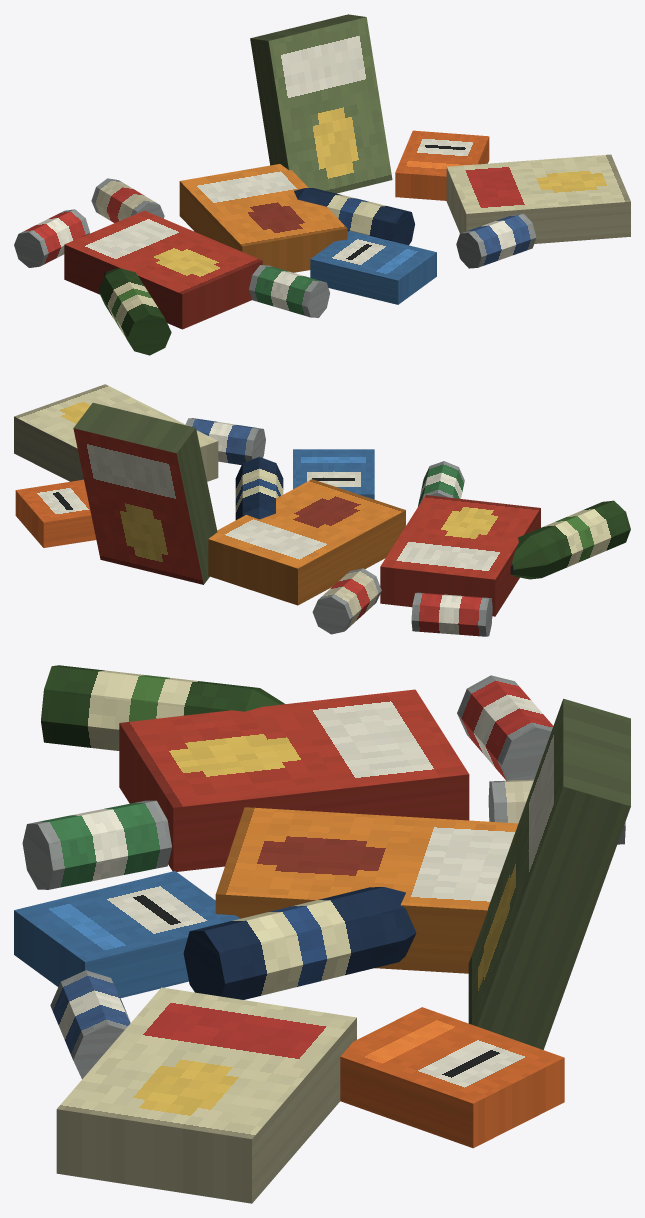
Rendered from messy_products.glb.
3 views of the same model, one above another, from view 1: azimuth 30°, elevation 25°; view 2: azimuth 150°, elevation 25°; view 3: azimuth 270°, elevation 25° (orthographic). The views are drawn at different scales.
Visible parts, largest first — view 1: Products; view 2: Products; view 3: Products.
Part boxes in pixels (x1,y1,x2,y2): Products: (14,14,630,355); Products: (14,384,630,636); Products: (14,665,630,1203).
Size of the model in its own units: 1.04 by 0.2864 by 0.5635.
2 materials, 2 textured.
